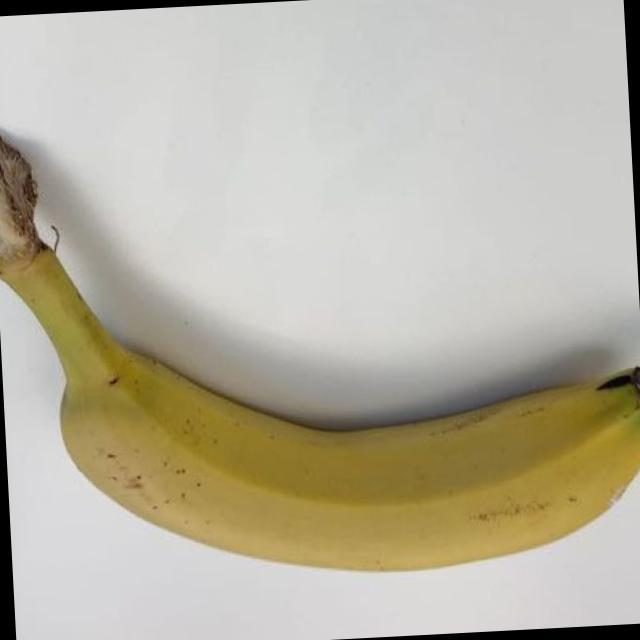Banana: (0, 73, 640, 604)
